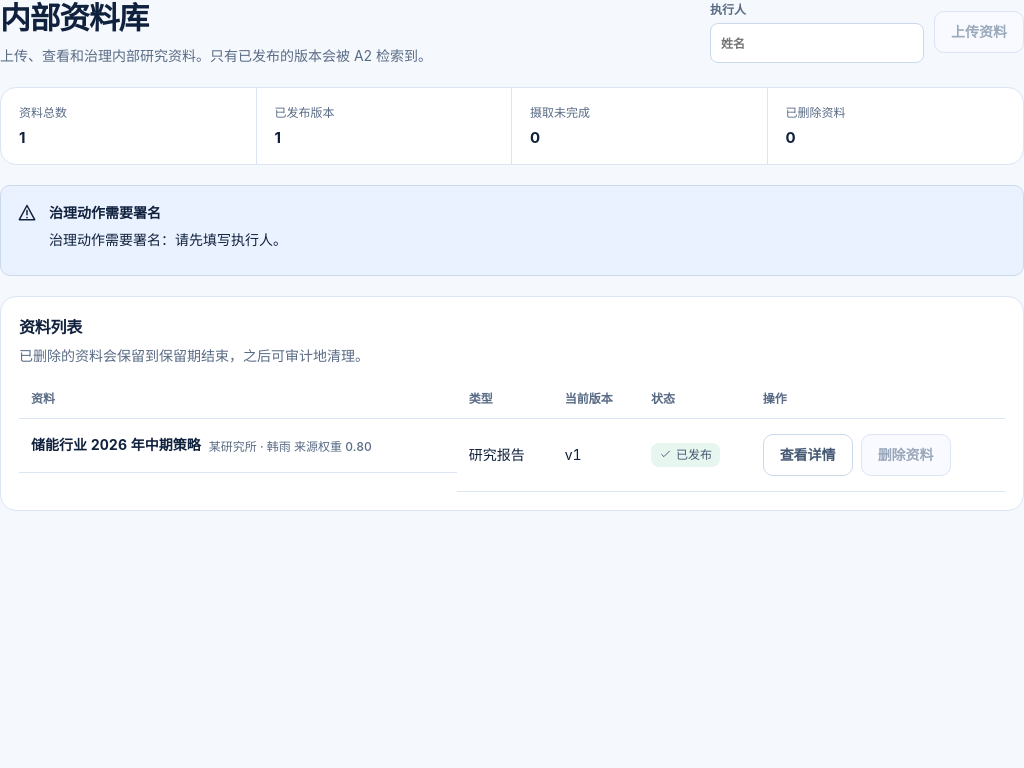
Test case: ResearchLibraryPage › opens a version history drawer with the audit trail
Expected: the heading "资料列表" is shown, [19,317,82,337]
Click the button "查看详情" at (808, 455), box [763,434,853,476]
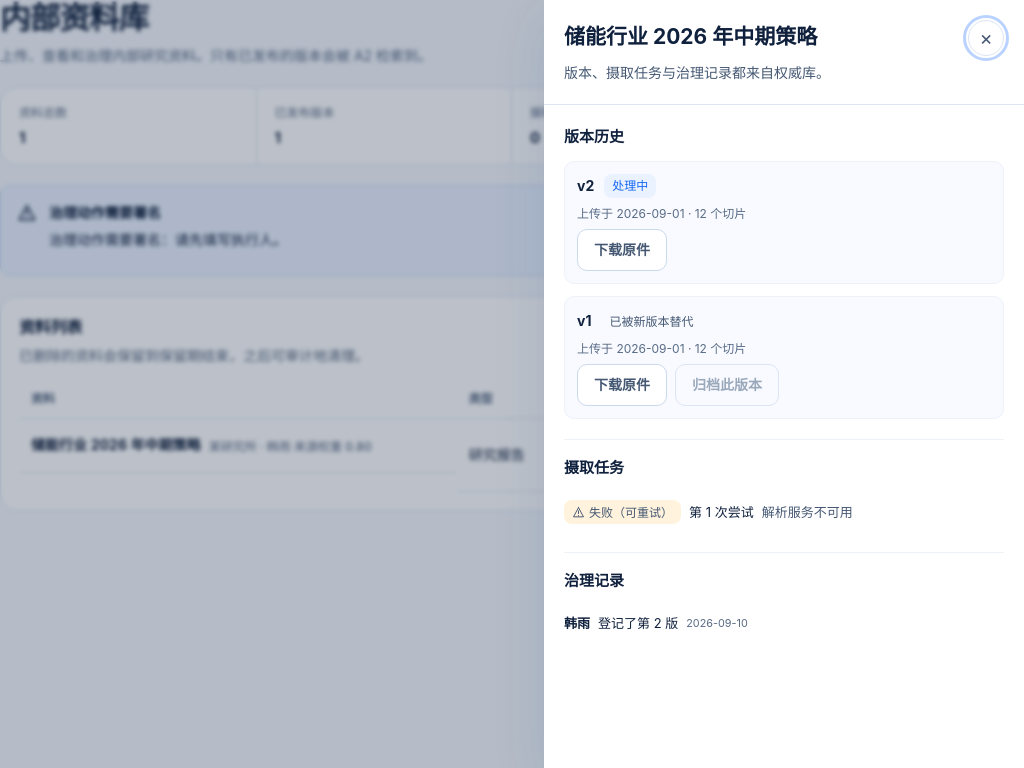
Expected: the heading "版本历史" is shown, [564,127,624,146]
Expected: the text "v2" is shown, [577,175,594,197]
Expected: the text "已被新版本替代" is shown, [609,312,693,331]
